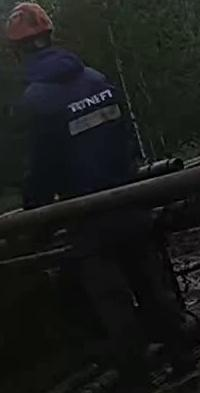helmet: (5, 1, 53, 42)
vest: (0, 47, 146, 209)
